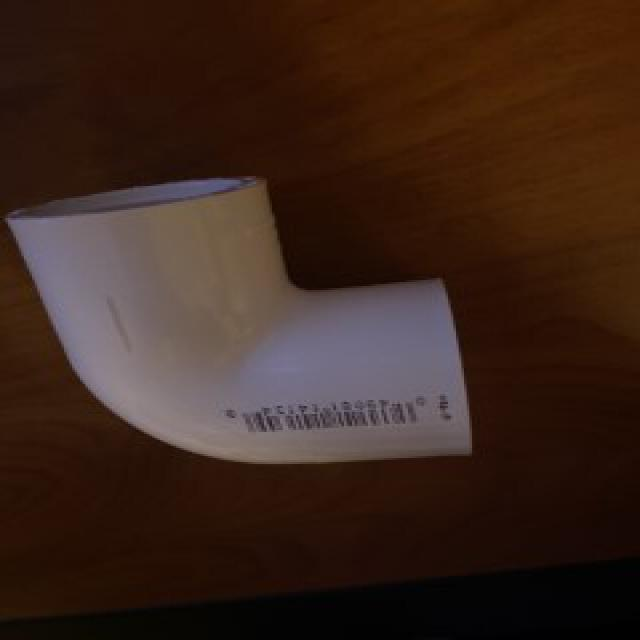L Joint: (6, 177, 475, 467)
